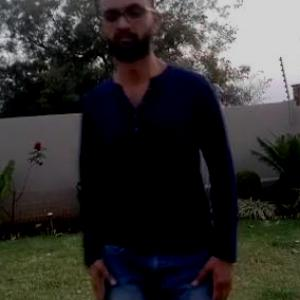follow: (96, 0, 233, 299)
